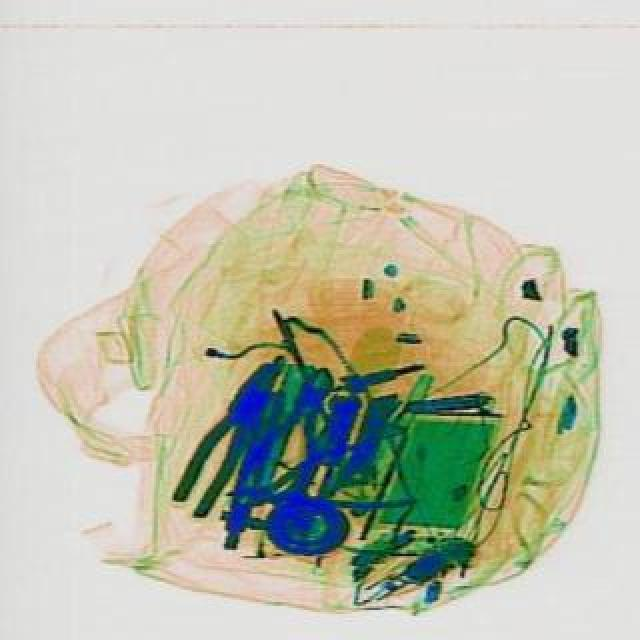wrench: (216, 422, 420, 538), (162, 352, 290, 520)
